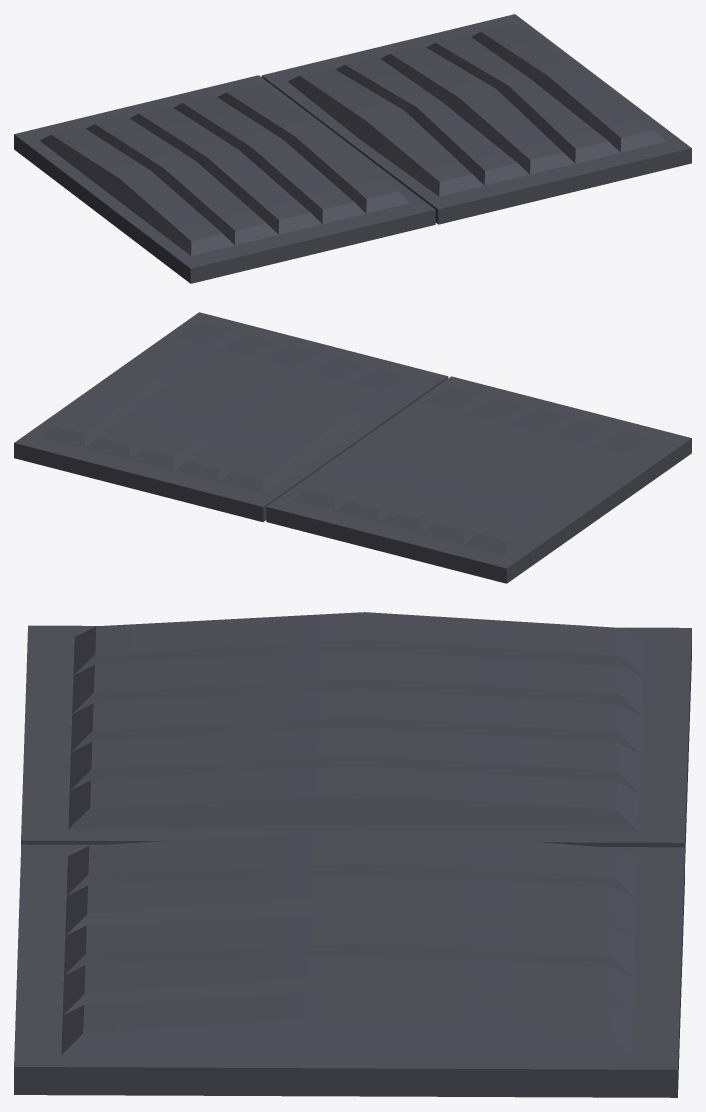
The model's file is TrashPart1.fbx.
3 renders of one model, top to bottom at view 1: azimuth 30°, elevation 25°; view 2: azimuth 150°, elevation 25°; view 3: azimuth 270°, elevation 25°, orthographic. The views are drawn at different scales.
Visible parts, largest first — view 1: SM_Prop_Skip_02.003; view 2: SM_Prop_Skip_02.003; view 3: SM_Prop_Skip_02.003.
Boxes of the visible parts, x1,y1,x2,y2 form: SM_Prop_Skip_02.003: (14,14,691,283); SM_Prop_Skip_02.003: (14,312,691,583); SM_Prop_Skip_02.003: (14,612,691,1097).
Bounding box in the file's own units: 319 × 20.91 × 204.
